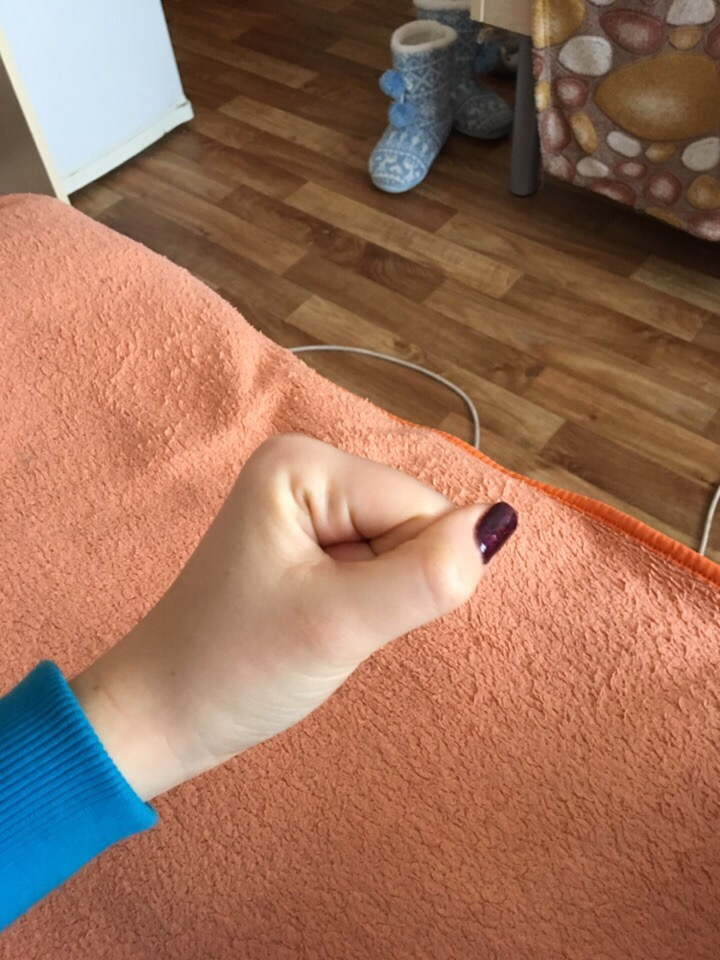hand: (149, 477, 486, 705)
